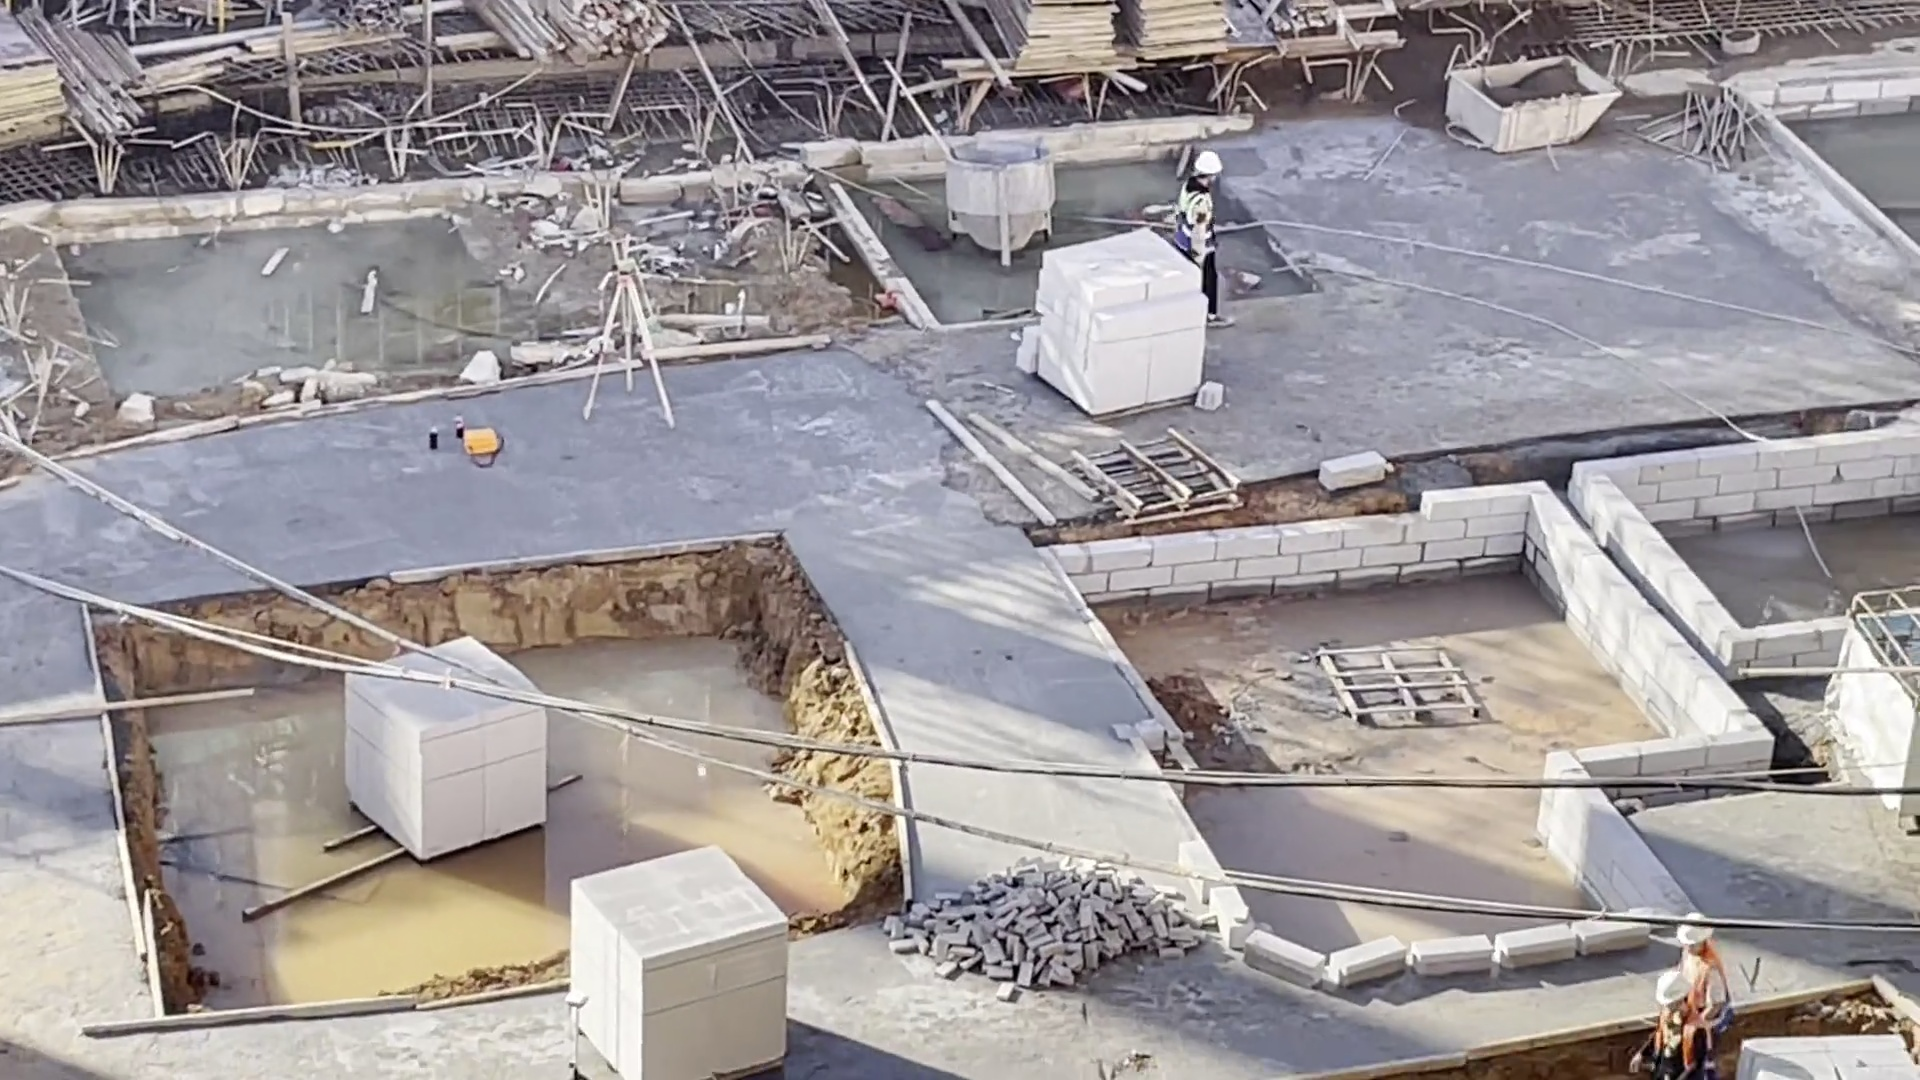board: (973, 1, 1121, 78), (6, 6, 70, 148), (1129, 5, 1236, 64)
brick: (553, 839, 802, 1080), (349, 686, 553, 865), (1028, 227, 1213, 413), (1742, 1032, 1920, 1079)
helmet: (1653, 969, 1691, 1005), (1193, 150, 1224, 178)
hopper: (1436, 49, 1624, 157), (937, 134, 1058, 265)
person: (1625, 968, 1714, 1080), (1170, 145, 1225, 265)
vest: (1657, 1012, 1713, 1080), (1172, 180, 1221, 255)
wood: (474, 2, 675, 67), (65, 20, 147, 141)
